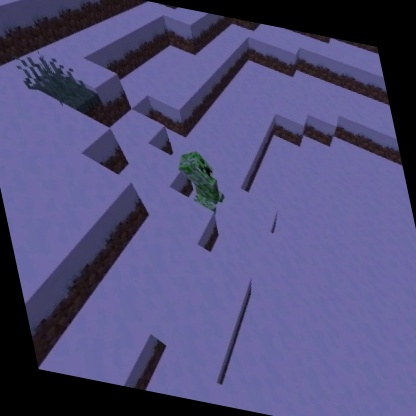creeper: (171, 144, 232, 217)
